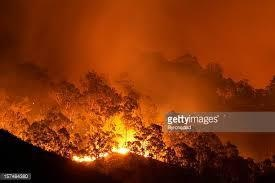fire: (71, 113, 148, 161)
